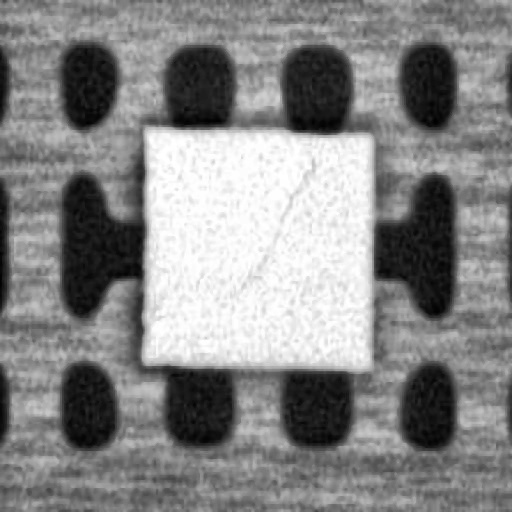DIE_CRACK: (257, 154, 313, 268)
